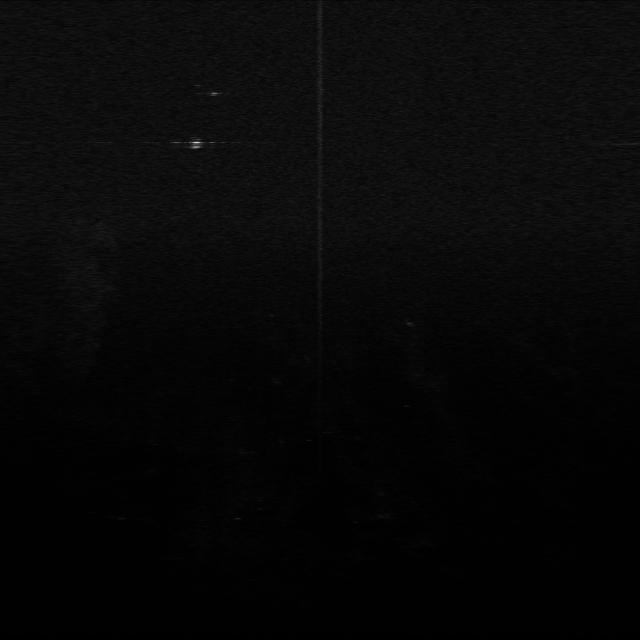rov: (178, 132, 210, 152)
